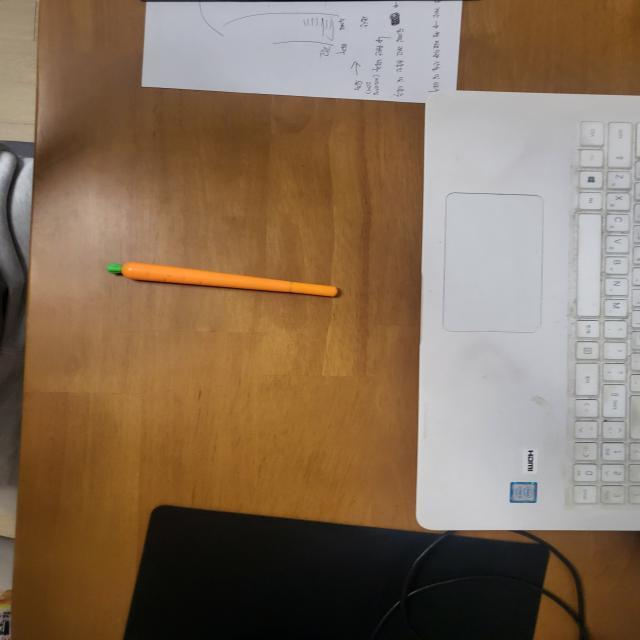carrot: (116, 256, 342, 302)
